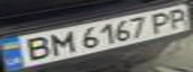1: (97, 20, 118, 46)
6: (75, 25, 103, 51), (112, 17, 136, 43)
7: (127, 14, 154, 39)
B: (12, 34, 57, 62)
M: (42, 29, 78, 57)
P: (145, 9, 178, 34), (163, 6, 193, 30)
